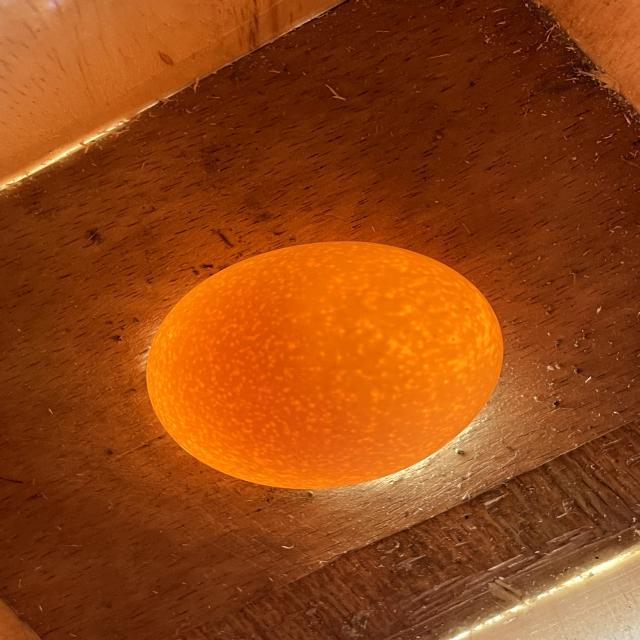infertile: (147, 241, 503, 489)
